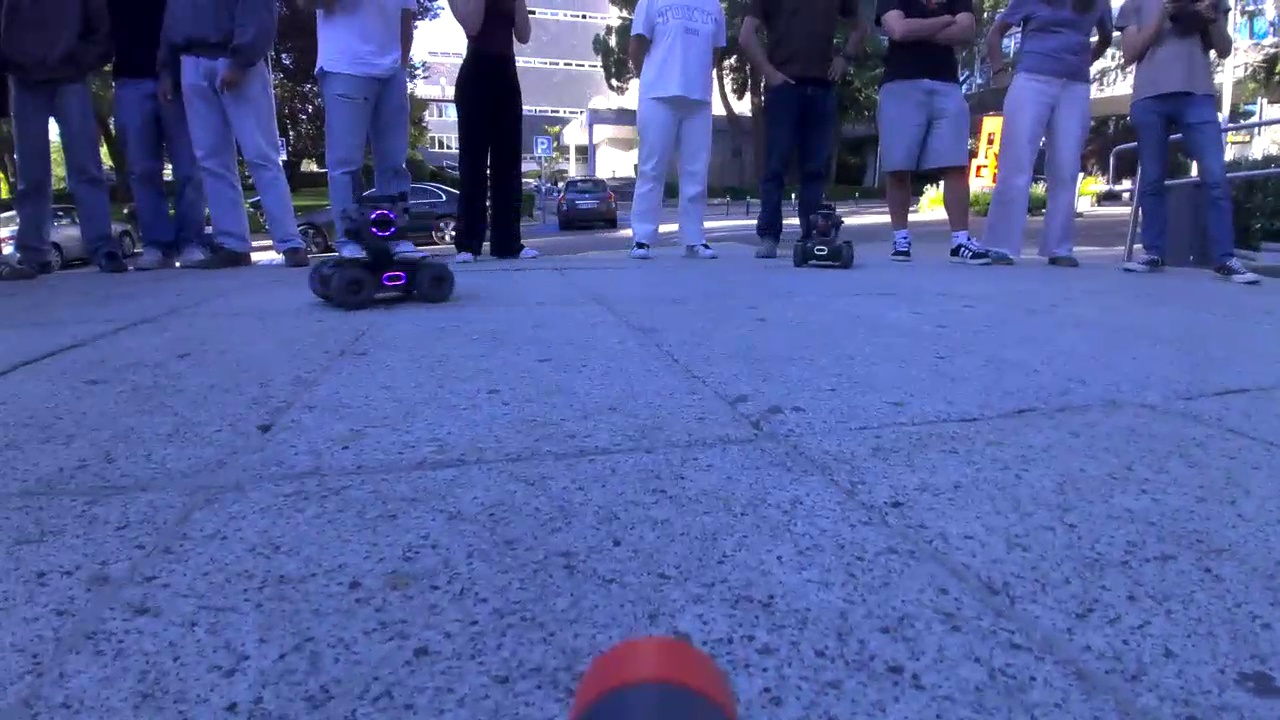robot: (302, 190, 467, 316), (792, 198, 856, 272)
